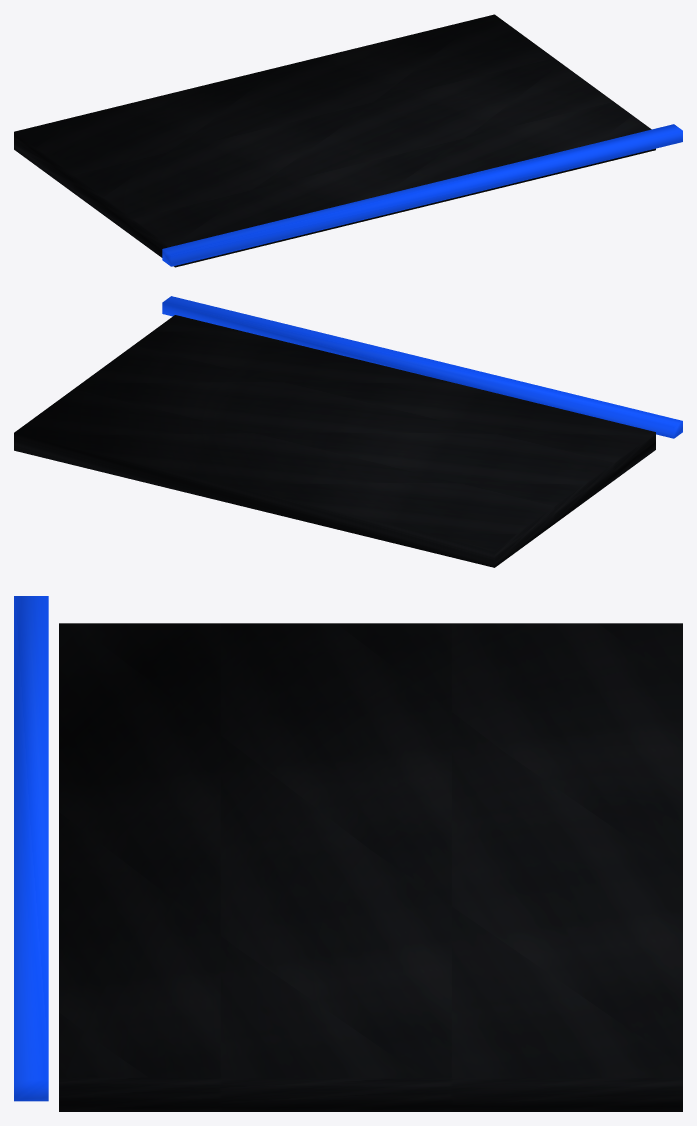
The model's file is MEETING_TV_WALL_001.glb.
3 views of the same model, one above another, from view 1: azimuth 30°, elevation 25°; view 2: azimuth 150°, elevation 25°; view 3: azimuth 270°, elevation 25° (orthographic). The views are drawn at different scales.
Parts seen in each view (by area): view 1: tv_frame_000, top_glow_002; view 2: tv_frame_000, top_glow_002; view 3: tv_frame_000, top_glow_002.
Part boxes in pixels (left/top/right/bottom): tv_frame_000: left=14, top=14, right=655, bottom=267; top_glow_002: left=162, top=124, right=682, bottom=266; tv_frame_000: left=14, top=315, right=655, bottom=567; top_glow_002: left=162, top=296, right=682, bottom=438; tv_frame_000: left=59, top=623, right=682, bottom=1111; top_glow_002: left=14, top=596, right=48, bottom=1101.
Bounding box in the file's own units: 1.65 × 0.0785 × 0.965.
Materials: 3 (3 with a texture image).
